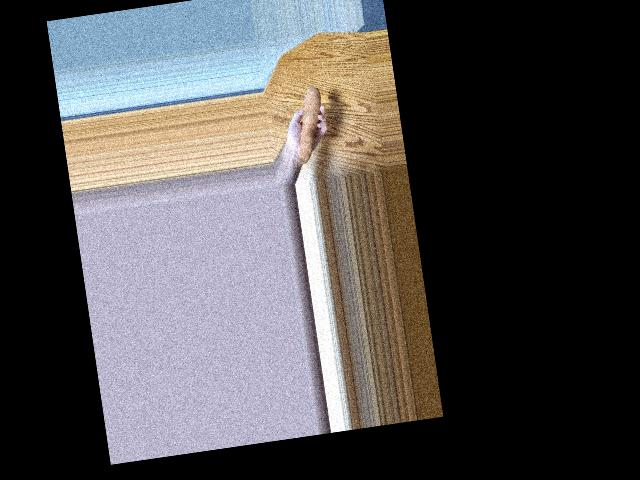sweet_potato: (292, 88, 331, 160)
